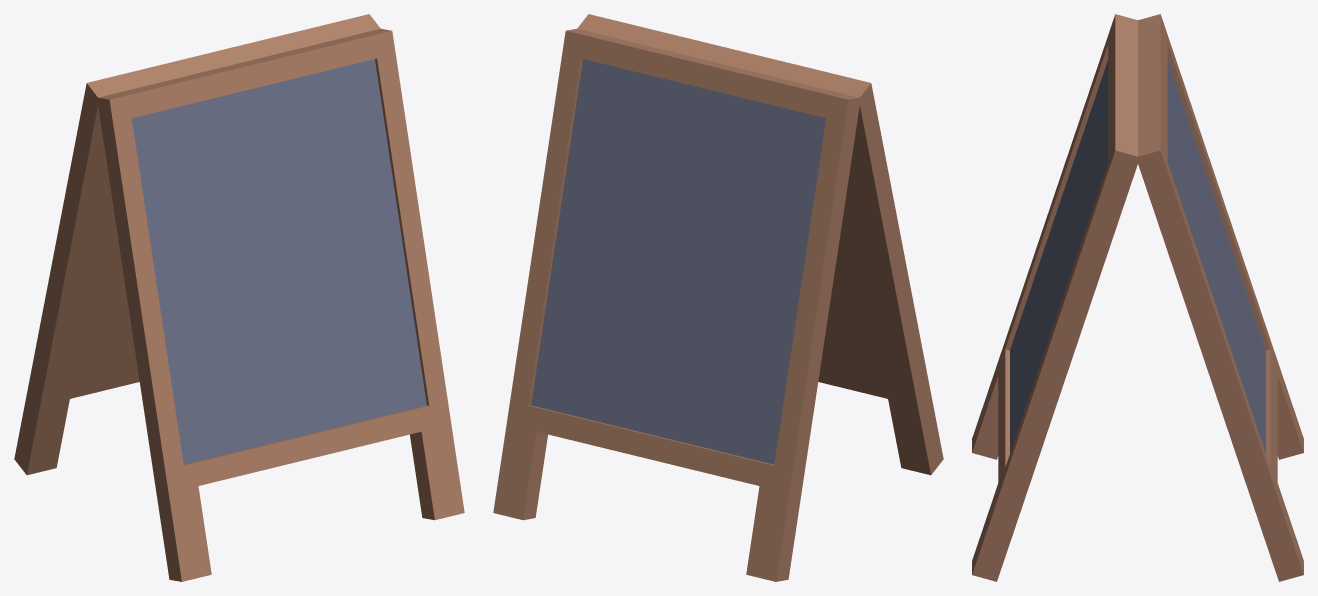
Rendered from Menu_02.fbx.
The picture shows the model from 3 angles, left to right: view 1: azimuth 30°, elevation 25°; view 2: azimuth 150°, elevation 25°; view 3: azimuth 270°, elevation 25°; orthographic projection.
Visible parts, largest first — view 1: Menu_02; view 2: Menu_02; view 3: Menu_02.
Boxes of the visible parts, x1,y1,x2,y2 form: Menu_02: [14, 14, 464, 581]; Menu_02: [493, 14, 943, 581]; Menu_02: [972, 14, 1303, 581].
Bounding box in the file's own units: 54.86 × 80.88 × 56.36.
